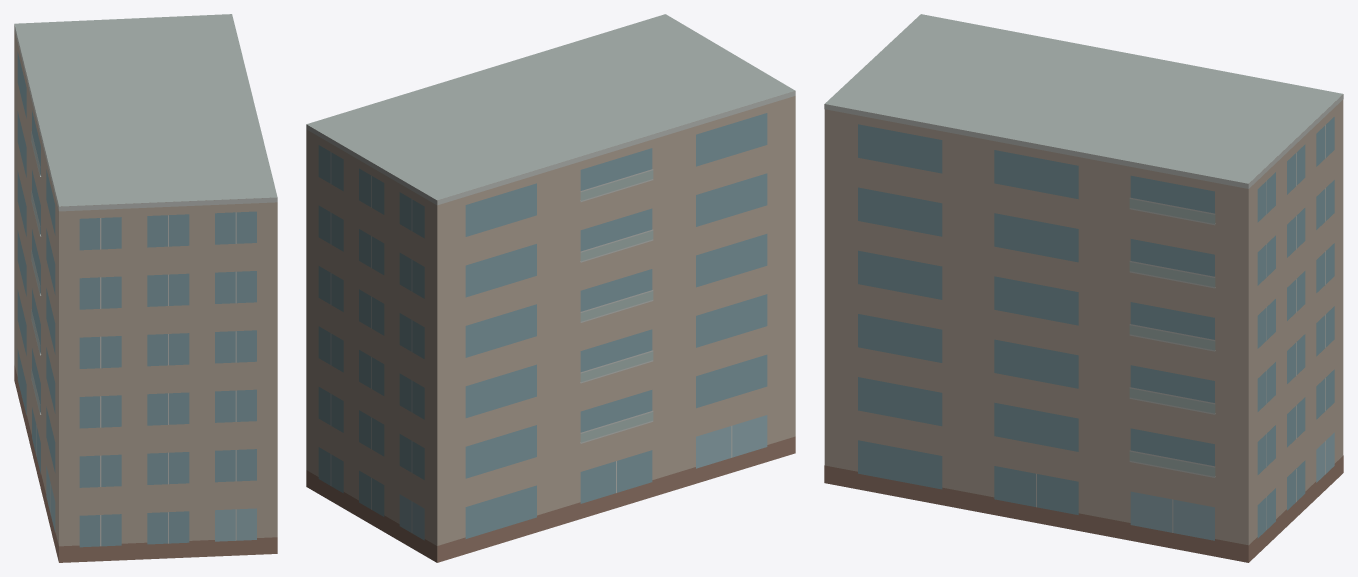
File: survey-upis-32532595.glb
The picture shows the model from 3 angles, left to right: view 1: azimuth 30°, elevation 25°; view 2: azimuth 150°, elevation 25°; view 3: azimuth 270°, elevation 25°; orthographic projection. The views are drawn at different scales.
Parts seen in each view (by area): view 1: survey-upis-32532595.tmp; view 2: survey-upis-32532595.tmp; view 3: survey-upis-32532595.tmp.
Boxes of the visible parts, bbox=[...] form: survey-upis-32532595.tmp: bbox=[14, 14, 277, 562]; survey-upis-32532595.tmp: bbox=[306, 14, 795, 562]; survey-upis-32532595.tmp: bbox=[824, 14, 1343, 562].
Bounding box in the file's own units: 17.01 × 17.7 × 21.97.
